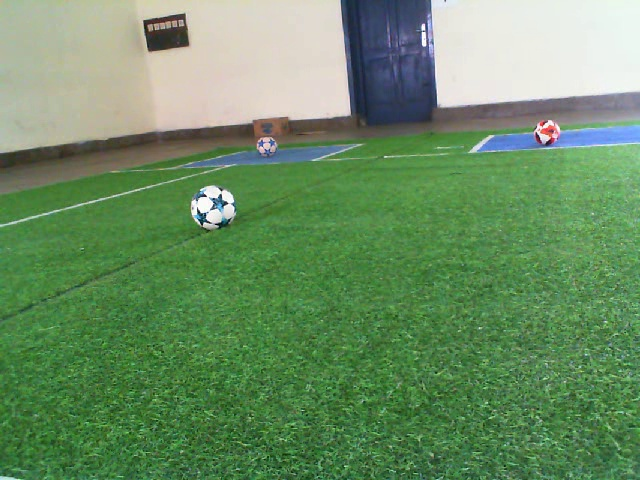ball: (188, 183, 239, 234), (531, 117, 563, 148), (253, 132, 280, 160)
